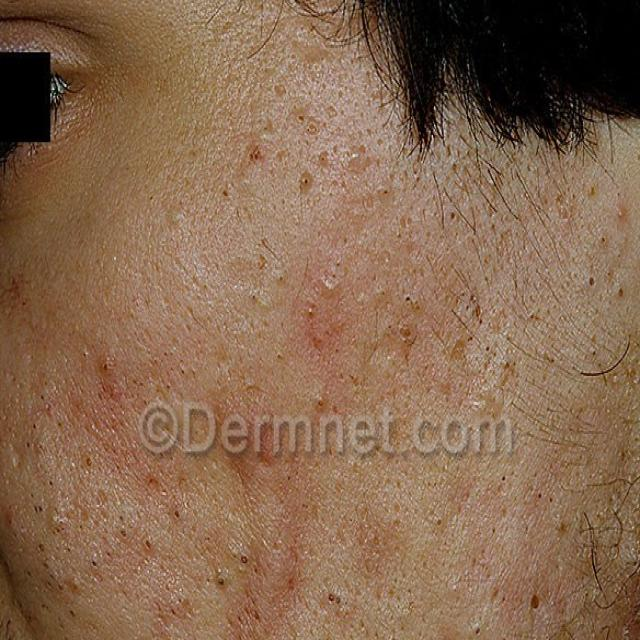Acne: (71, 442, 216, 559), (240, 125, 344, 213), (290, 268, 344, 435), (84, 334, 131, 394), (258, 606, 323, 640)
